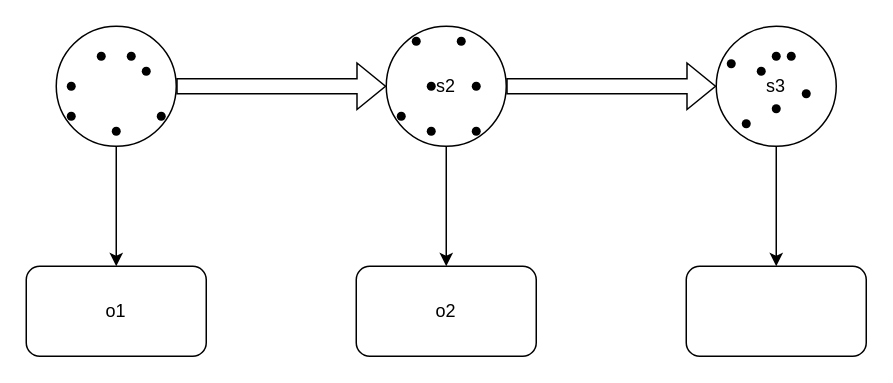
Image size: 893x383. Some labels were removed from this diagram. Here are the shapes that lost their labels. From the top down, the box of each, then its label:
(55, 25, 176, 146): s1
(685, 265, 866, 356): o3
